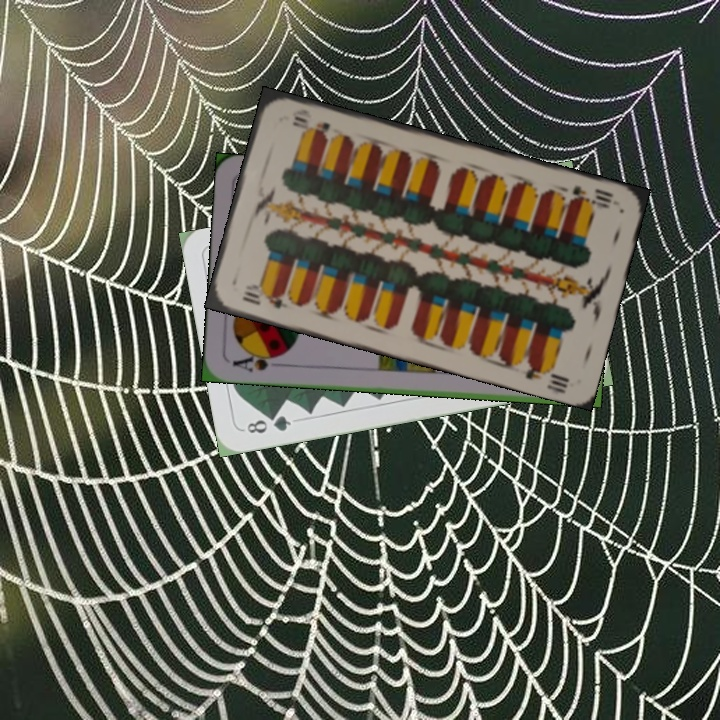E10: (566, 181, 616, 211), (237, 287, 290, 311)
G8: (242, 410, 294, 436)
SA: (228, 348, 287, 375)
